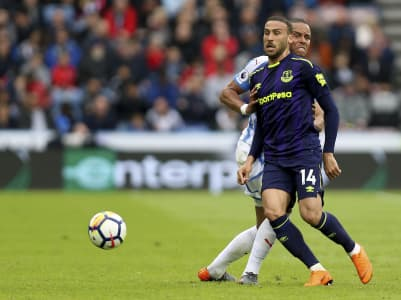soccer player: (245, 17, 376, 287), (196, 23, 328, 280)
soccerball: (86, 208, 128, 252)
